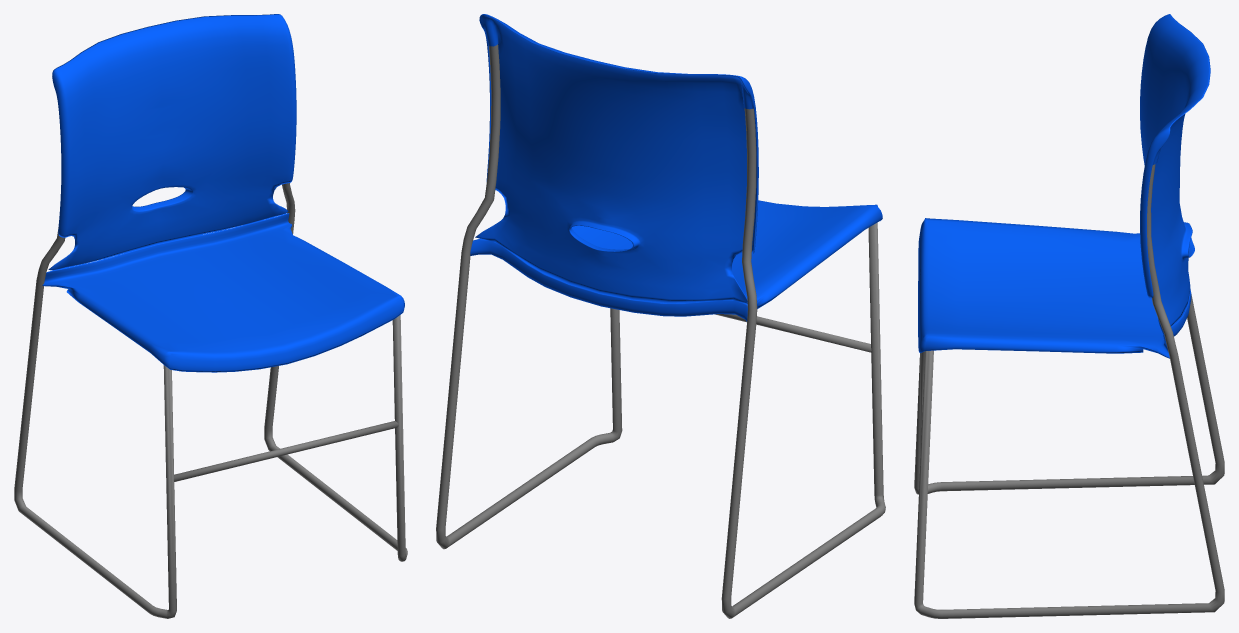
Rendered from chair.obj.
The picture shows the model from 3 angles, left to right: view 1: azimuth 30°, elevation 25°; view 2: azimuth 150°, elevation 25°; view 3: azimuth 270°, elevation 25°; orthographic projection. The views are drawn at different scales.
Bounding box in the file's own units: 0.4572 × 0.7867 × 0.4572.
